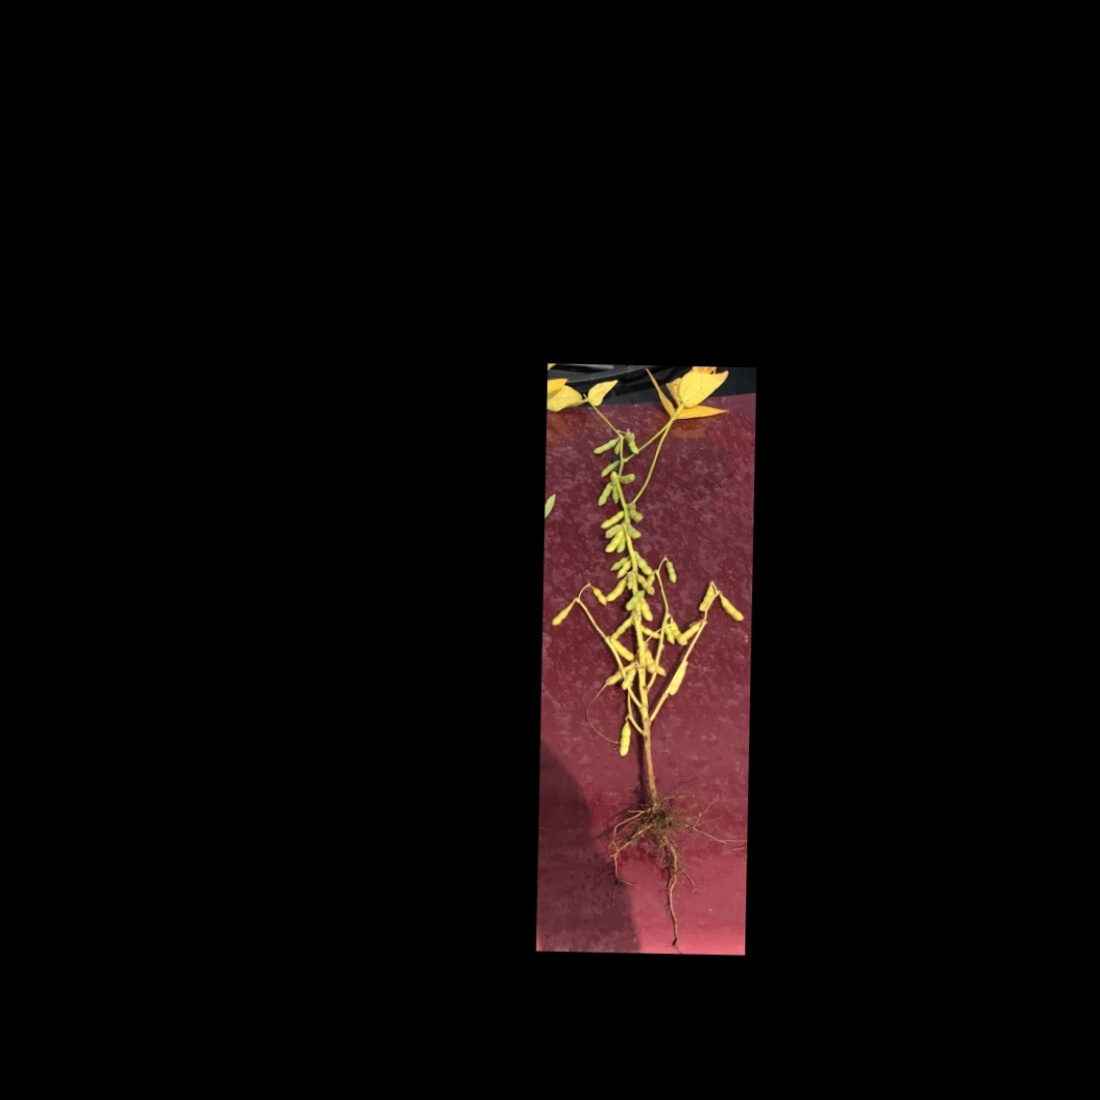pod: (717, 591, 745, 623), (674, 618, 703, 646), (590, 434, 621, 459), (695, 580, 717, 614), (549, 600, 575, 628), (615, 720, 635, 757), (668, 617, 690, 649), (610, 637, 638, 662), (609, 614, 634, 642), (603, 527, 625, 557), (595, 479, 615, 511), (636, 594, 656, 625), (600, 509, 627, 532), (605, 574, 626, 603), (634, 624, 666, 642), (587, 584, 611, 607), (634, 551, 656, 576), (597, 457, 621, 480), (664, 557, 680, 587), (614, 470, 637, 489)
soy: (544, 373, 750, 942)
